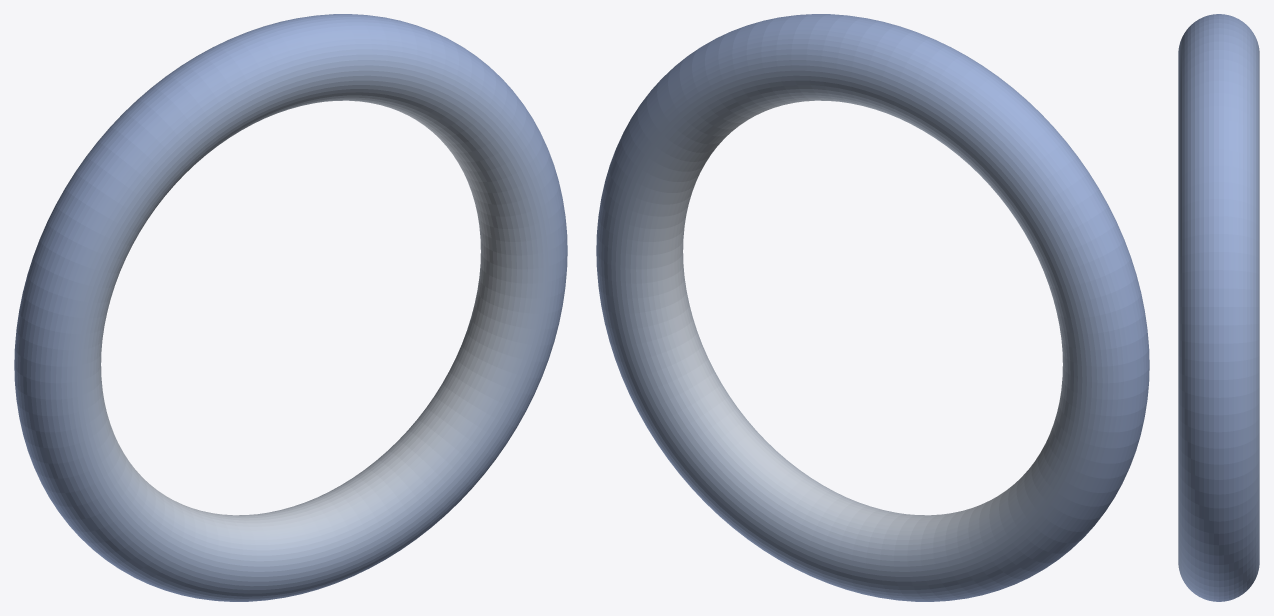
3 renders of one model, left to right at view 1: azimuth 30°, elevation 25°; view 2: azimuth 150°, elevation 25°; view 3: azimuth 270°, elevation 25°, orthographic. The views are drawn at different scales.
Parts seen in each view (by area): view 1: world; view 2: world; view 3: world.
Boxes of the visible parts, x1,y1,x2,y2 form: world: (14,14,567,601); world: (596,14,1149,601); world: (1178,14,1259,601).
Size of the model in its own units: 27.87 by 27.87 by 3.86.
